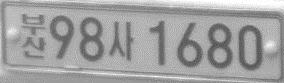0: (236, 24, 264, 71)
1: (146, 21, 173, 65)
6: (175, 20, 203, 68)
8: (206, 22, 234, 69), (78, 15, 105, 62)
9: (49, 14, 75, 60)
부산_V: (21, 12, 47, 60)
사: (108, 21, 133, 59)
